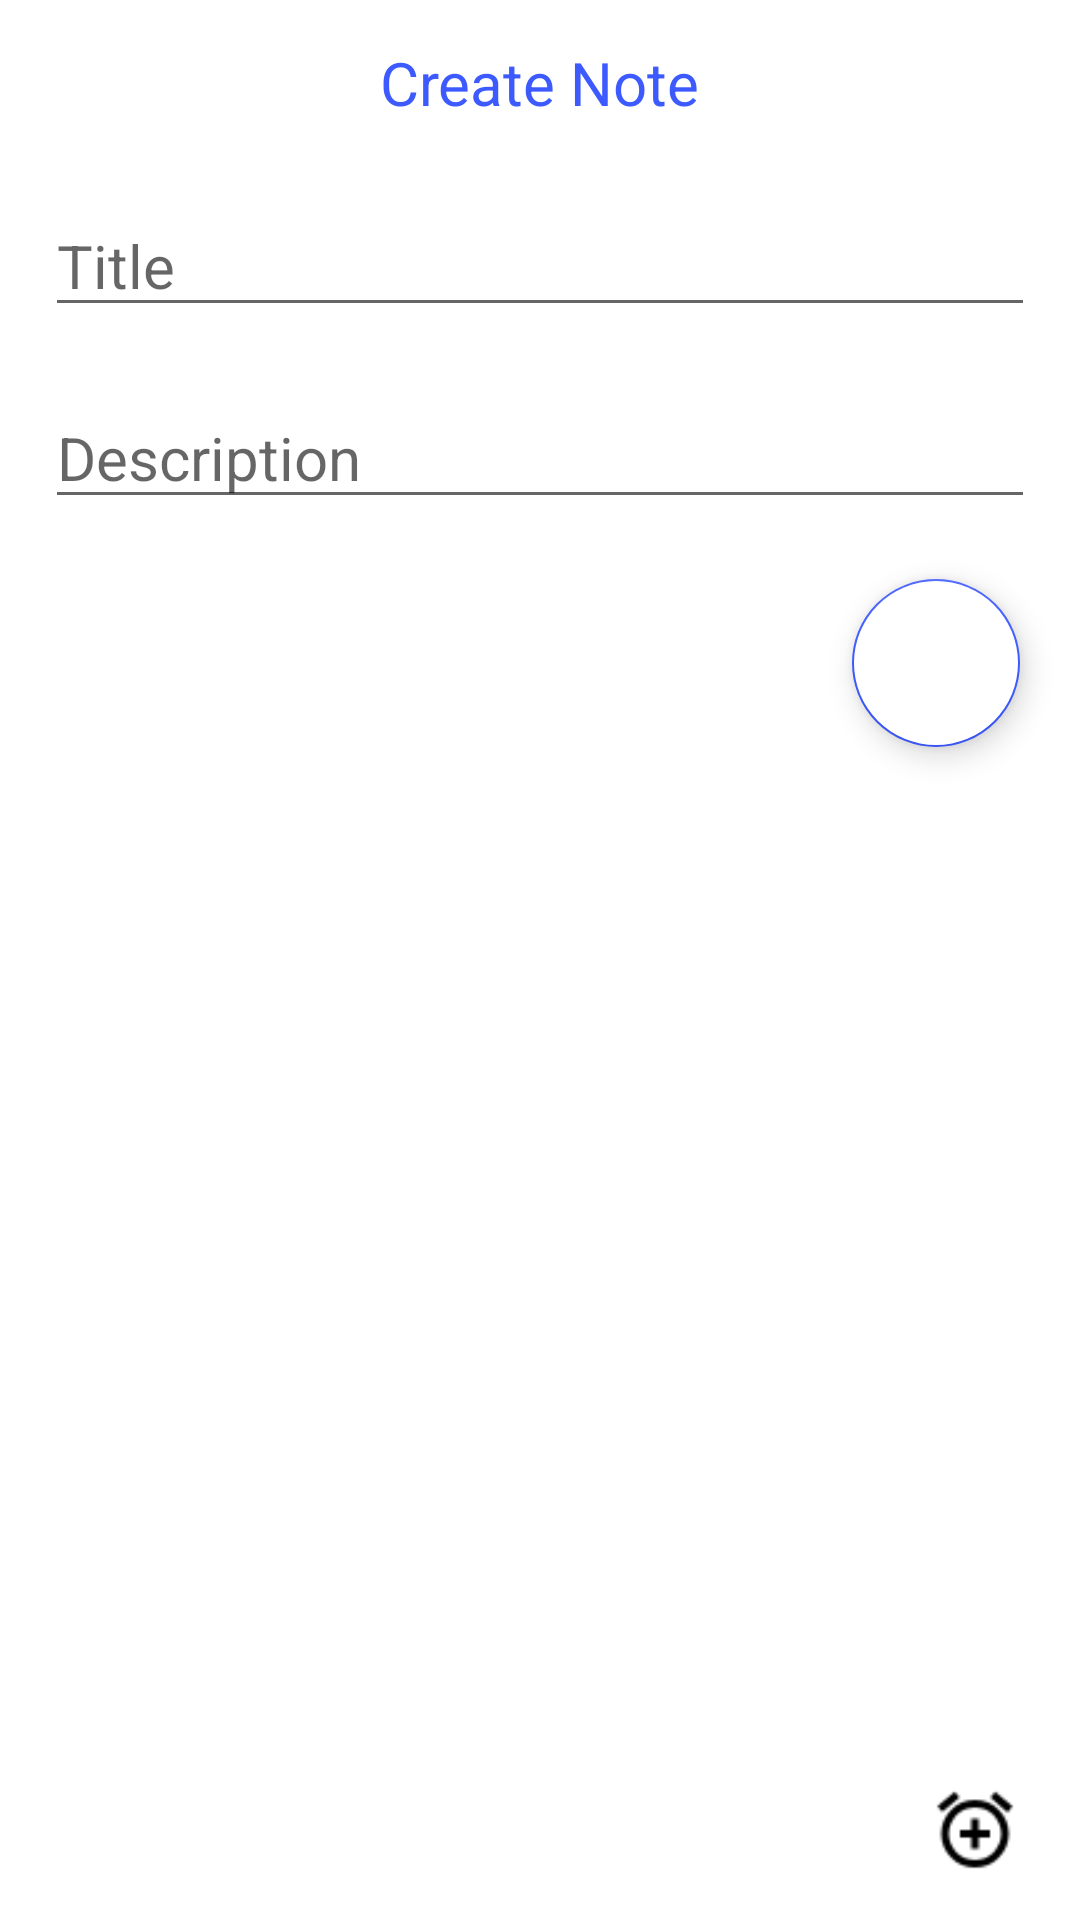

Icons on this 1080x1920 Android screen, each with the point to tap as (x,y):
alarm: (975,1830)
